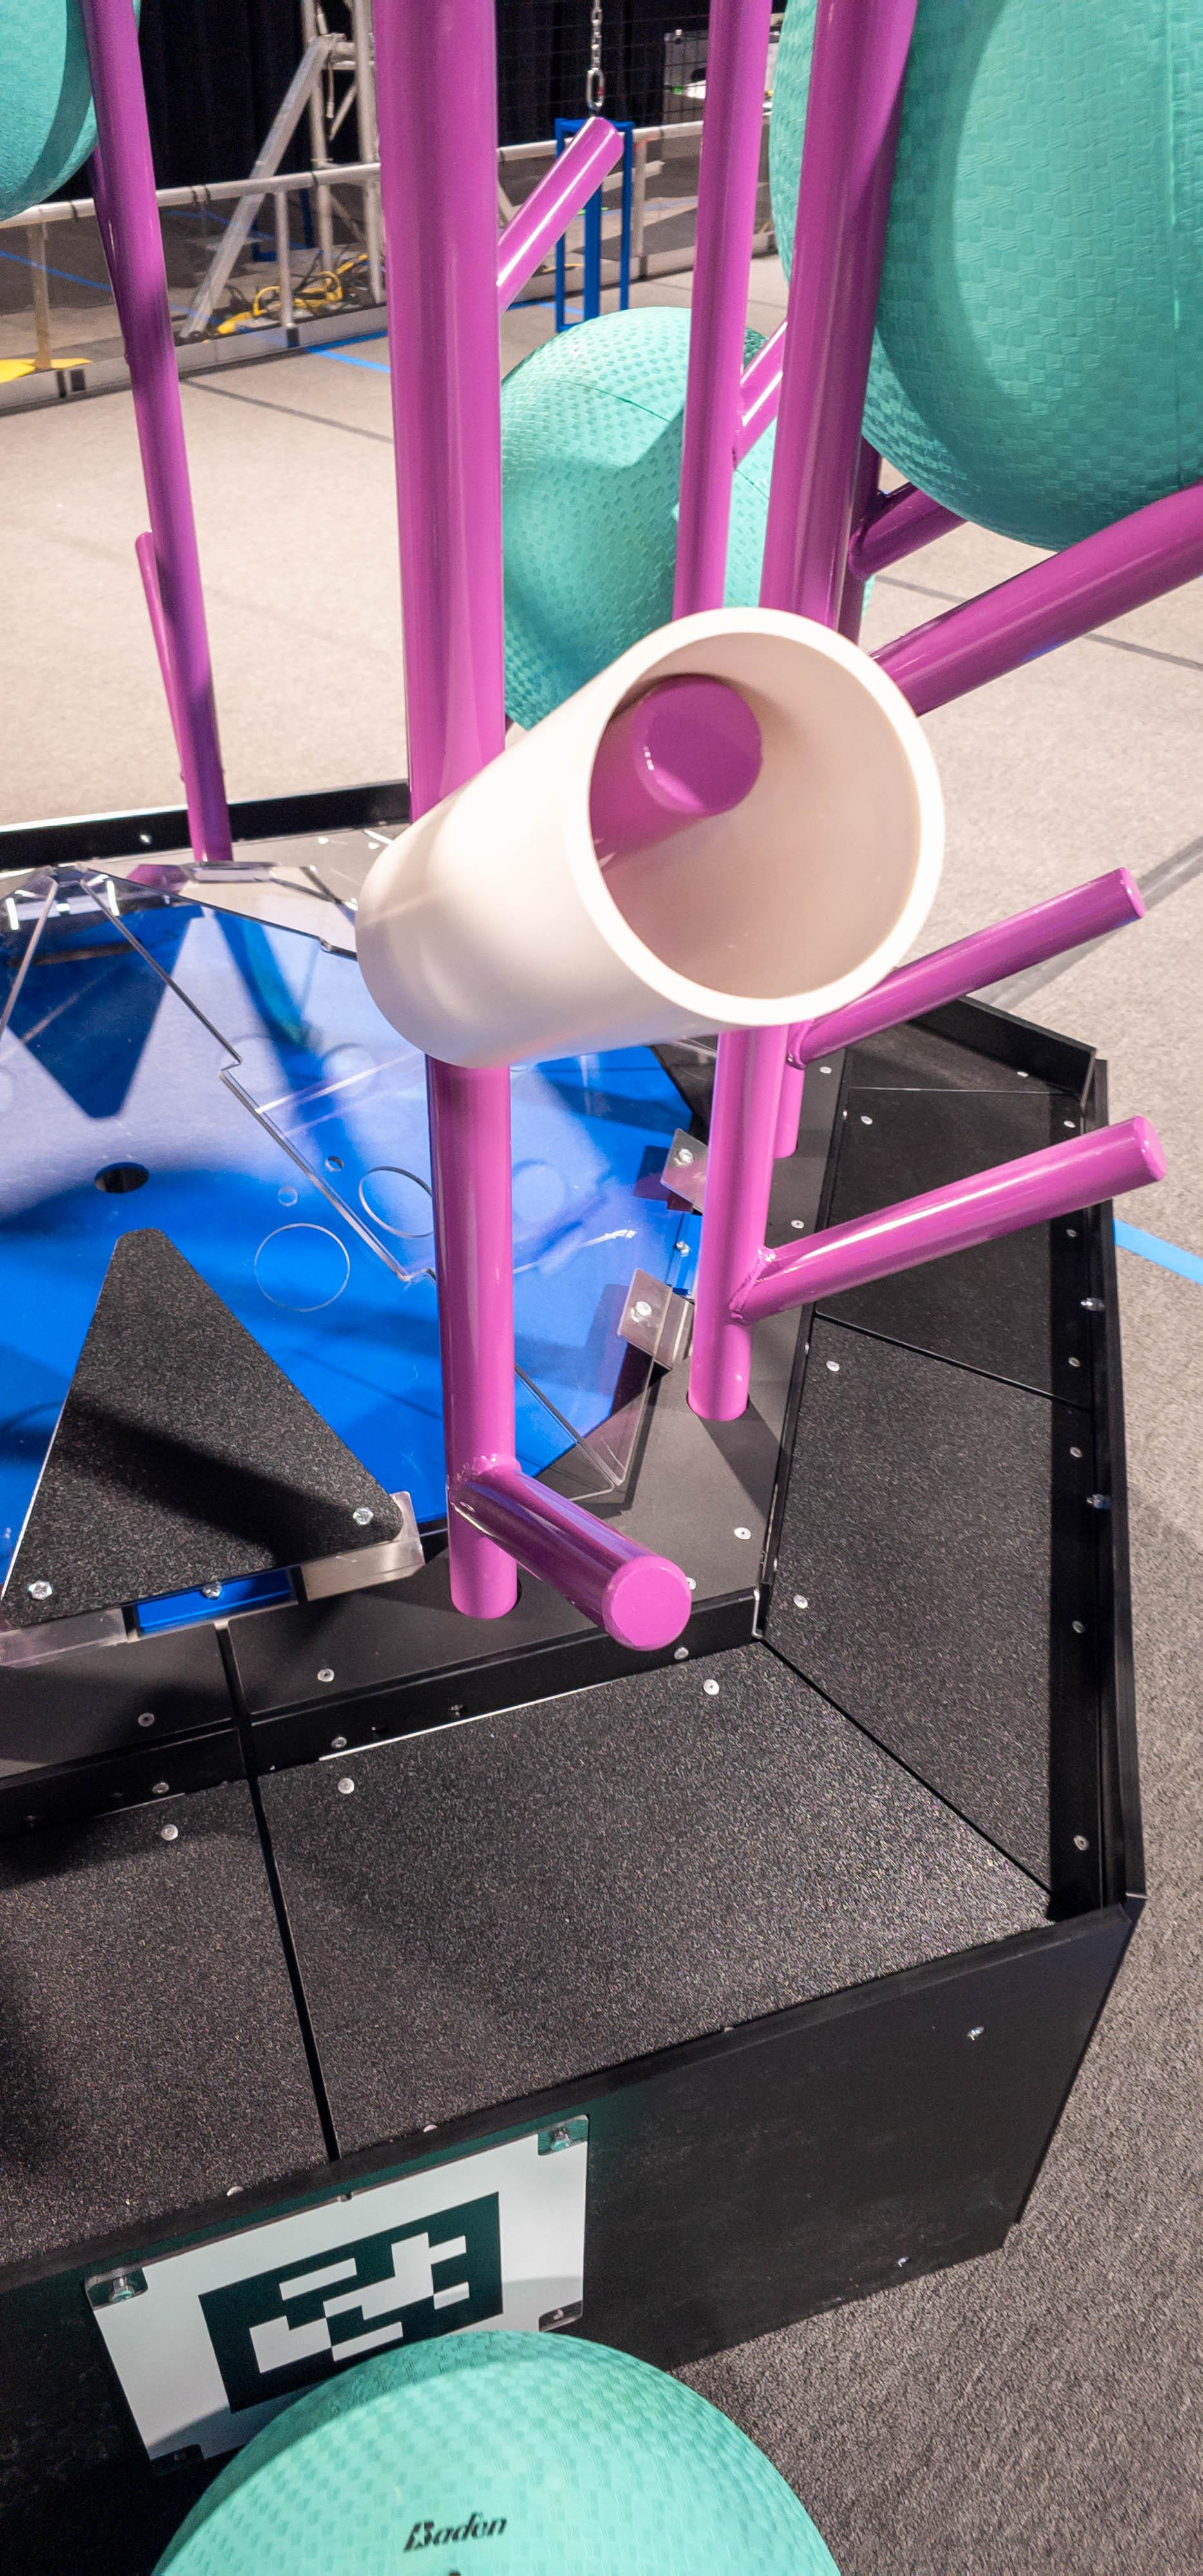ALGAE: (769, 0, 1203, 557), (158, 2331, 846, 2576), (503, 306, 782, 738), (0, 0, 145, 228)
CORAL: (352, 608, 940, 1073)
